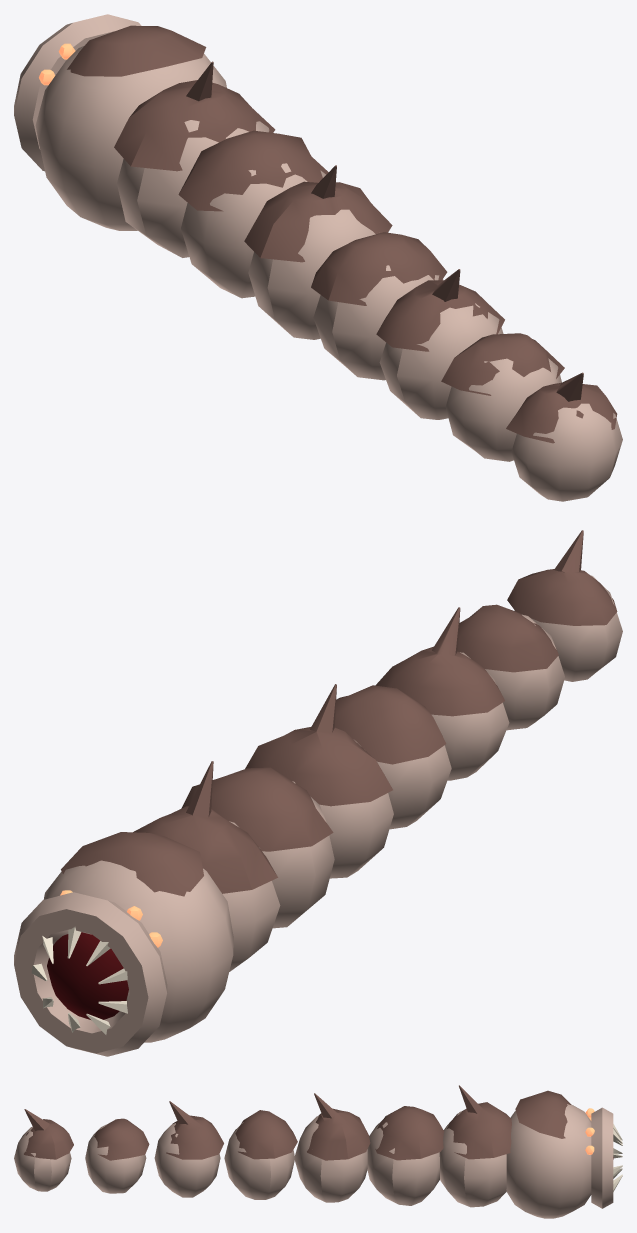
The model's file is Burrowmaw.fbx.
3 renders of one model, top to bottom at view 1: azimuth 30°, elevation 25°; view 2: azimuth 150°, elevation 25°; view 3: azimuth 270°, elevation 25°, orthographic. The views are drawn at different scales.
Parts seen in each view (by area): view 1: Head_Flesh, Seg1_Plate, Seg7_Flesh, Seg2_Plate, Seg3_Flesh, Seg2_Flesh, Seg5_Flesh, Seg3_Plate, Seg6_Flesh, Seg4_Plate, Seg1_Flesh, Seg4_Flesh (+4 smaller); view 2: Head_Flesh, Seg3_Plate, Seg2_Plate, Seg1_Plate, Seg5_Plate, Seg4_Plate, Seg7_Plate, Head_Plate, Seg6_Plate, Head_Maw, Seg2_Flesh, Seg3_Flesh (+6 smaller); view 3: Head_Flesh, Seg1_Flesh, Seg2_Flesh, Seg3_Flesh, Seg1_Plate, Seg2_Plate, Seg4_Flesh, Seg3_Plate, Seg5_Flesh, Seg4_Plate, Seg6_Flesh, Seg5_Plate (+6 smaller).
Boxes of the visible parts, bbox=[...] form: Head_Flesh: bbox=[14, 14, 226, 230]; Seg1_Plate: bbox=[114, 61, 275, 171]; Seg7_Flesh: bbox=[511, 403, 622, 501]; Seg2_Plate: bbox=[178, 130, 328, 211]; Seg3_Flesh: bbox=[248, 209, 375, 339]; Seg2_Flesh: bbox=[181, 163, 325, 298]; Seg5_Flesh: bbox=[379, 303, 503, 419]; Seg3_Plate: bbox=[244, 165, 392, 262]; Seg6_Flesh: bbox=[445, 358, 561, 461]; Seg4_Plate: bbox=[311, 232, 447, 305]; Seg1_Flesh: bbox=[117, 120, 269, 257]; Seg4_Flesh: bbox=[313, 265, 443, 380]; Head_Flesh: bbox=[14, 860, 233, 1056]; Seg3_Plate: bbox=[245, 684, 392, 806]; Seg2_Plate: bbox=[181, 767, 333, 851]; Seg1_Plate: bbox=[133, 761, 277, 893]; Seg5_Plate: bbox=[375, 607, 504, 716]; Seg4_Plate: bbox=[334, 685, 446, 764]; Seg7_Plate: bbox=[507, 530, 617, 625]; Head_Plate: bbox=[61, 832, 203, 896]; Seg6_Plate: bbox=[457, 604, 558, 672]; Head_Maw: bbox=[47, 932, 128, 1019]; Seg2_Flesh: bbox=[262, 781, 334, 928]; Seg3_Flesh: bbox=[320, 740, 393, 878]; Head_Flesh: bbox=[506, 1104, 613, 1218]; Seg1_Flesh: bbox=[439, 1111, 506, 1207]; Seg2_Flesh: bbox=[367, 1114, 439, 1205]; Seg3_Flesh: bbox=[294, 1116, 367, 1202]; Seg1_Plate: bbox=[447, 1085, 511, 1159]; Seg2_Plate: bbox=[375, 1106, 443, 1160]; Seg4_Flesh: bbox=[224, 1122, 294, 1199]; Seg3_Plate: bbox=[307, 1093, 370, 1160]; Seg5_Flesh: bbox=[154, 1123, 220, 1197]; Seg4_Plate: bbox=[235, 1110, 297, 1159]; Seg6_Flesh: bbox=[85, 1124, 146, 1193]; Seg5_Plate: bbox=[166, 1101, 223, 1159].
Bounding box in the file's own units: 3.91 × 4.66 × 20.19.
